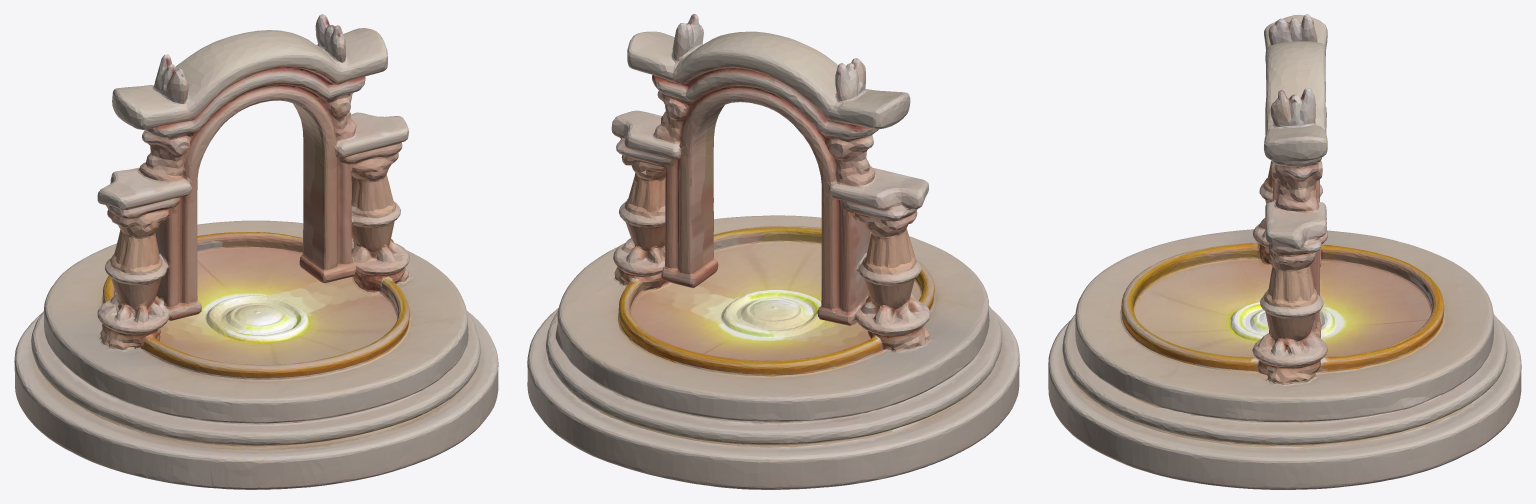
Rendered from sky_sanctuary_altar.glb.
The picture shows the model from 3 angles, left to right: view 1: azimuth 30°, elevation 25°; view 2: azimuth 150°, elevation 25°; view 3: azimuth 270°, elevation 25°; orthographic projection. The views are drawn at different scales.
Parts seen in each view (by area): view 1: tmp5jjefjop.ply; view 2: tmp5jjefjop.ply; view 3: tmp5jjefjop.ply.
Boxes of the visible parts, x1,y1,x2,y2 form: tmp5jjefjop.ply: (14,14,498,489); tmp5jjefjop.ply: (527,14,1019,489); tmp5jjefjop.ply: (1048,14,1521,489).
Size of the model in its own units: 1.99 by 1.6 by 1.99.
1 material, 1 textured.
